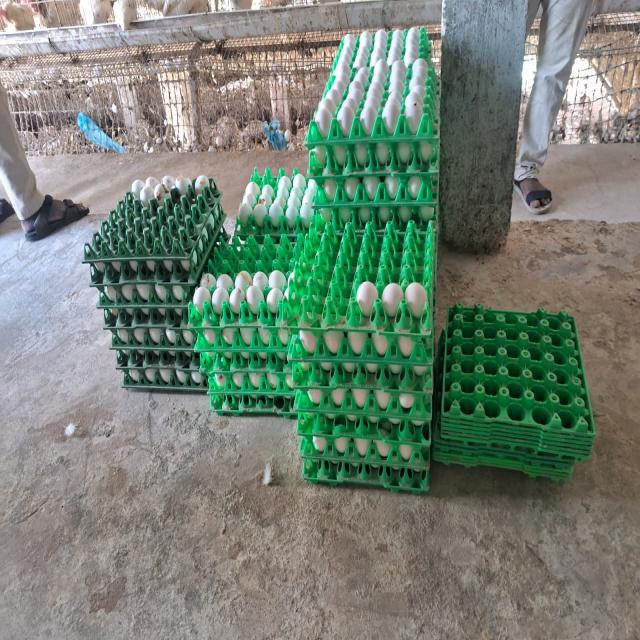egg_tray: (84, 176, 224, 391), (440, 305, 594, 459), (432, 330, 576, 481), (443, 305, 593, 438), (190, 237, 300, 414), (278, 222, 436, 343), (306, 30, 439, 163), (282, 223, 434, 336), (91, 203, 226, 327), (306, 59, 438, 173), (84, 177, 223, 283), (90, 204, 226, 307), (91, 205, 226, 308), (289, 330, 433, 425), (289, 330, 433, 424), (314, 31, 438, 139), (90, 209, 226, 307), (92, 216, 226, 315), (189, 236, 301, 349), (85, 196, 218, 271), (288, 329, 433, 393), (196, 328, 294, 414), (105, 309, 206, 391), (432, 425, 576, 481), (196, 331, 294, 413), (306, 107, 438, 167), (432, 427, 576, 481), (306, 115, 438, 173), (307, 116, 438, 174), (297, 413, 430, 469), (288, 329, 434, 379), (310, 174, 438, 231), (200, 339, 294, 415), (289, 331, 434, 379), (108, 176, 221, 237), (292, 361, 434, 408), (440, 419, 592, 461), (100, 283, 194, 350), (297, 413, 430, 460), (440, 420, 592, 461), (440, 421, 592, 461), (234, 168, 316, 239), (104, 287, 194, 350), (208, 354, 294, 415), (195, 327, 290, 381), (295, 389, 432, 425), (308, 139, 438, 176), (332, 27, 432, 73), (432, 449, 574, 481), (302, 458, 429, 493), (195, 327, 290, 373), (310, 173, 438, 207), (299, 436, 430, 469), (200, 352, 293, 397), (116, 347, 206, 390), (196, 325, 290, 366), (104, 307, 194, 349), (210, 235, 302, 275), (116, 351, 206, 391), (200, 351, 292, 390), (97, 279, 196, 315), (316, 203, 437, 232), (129, 175, 220, 206), (110, 326, 194, 357), (210, 369, 294, 400), (208, 389, 294, 417), (200, 351, 291, 376), (208, 391, 293, 417), (122, 367, 206, 393), (116, 349, 194, 368), (385, 287, 398, 310), (316, 99, 328, 117), (406, 32, 416, 45), (196, 334, 204, 350), (420, 211, 432, 219), (514, 409, 526, 417), (405, 92, 414, 102), (476, 405, 482, 418), (316, 441, 322, 452), (237, 329, 246, 335), (310, 121, 314, 132), (360, 111, 367, 117), (557, 419, 562, 427), (194, 271, 200, 277), (406, 94, 412, 99), (388, 100, 396, 103), (376, 34, 382, 38), (513, 403, 520, 406), (422, 32, 426, 37), (284, 335, 288, 339), (428, 107, 432, 111), (260, 329, 264, 333), (320, 110, 323, 115), (508, 403, 513, 406), (423, 32, 426, 37), (141, 274, 146, 277), (346, 102, 349, 107), (285, 334, 288, 339), (96, 274, 99, 278), (391, 94, 393, 100), (274, 331, 276, 337), (126, 292, 128, 297), (201, 354, 204, 357), (427, 337, 430, 340), (260, 329, 263, 332), (288, 383, 290, 387), (424, 117, 428, 119), (390, 101, 394, 103), (286, 335, 288, 339), (304, 265, 308, 267), (148, 178, 154, 179), (271, 385, 274, 387), (308, 137, 310, 140), (376, 34, 378, 37), (116, 296, 117, 302), (208, 339, 210, 342), (424, 158, 427, 160), (227, 353, 229, 355), (288, 381, 290, 383), (198, 250, 200, 252), (222, 329, 226, 330), (272, 341, 273, 344), (316, 147, 318, 148), (164, 178, 166, 179), (272, 378, 274, 379), (163, 229, 164, 231), (174, 278, 176, 279), (252, 329, 254, 330), (242, 329, 244, 330), (264, 382, 266, 383), (301, 265, 302, 267), (220, 389, 221, 390), (194, 216, 195, 217), (384, 221, 386, 221), (194, 332, 194, 333), (130, 311, 130, 312), (92, 273, 92, 274), (392, 103, 392, 103), (410, 96, 410, 97), (118, 269, 118, 270), (199, 213, 199, 214), (199, 208, 199, 210), (308, 139, 308, 143), (348, 99, 348, 99), (254, 338, 254, 341), (434, 246, 434, 248)
